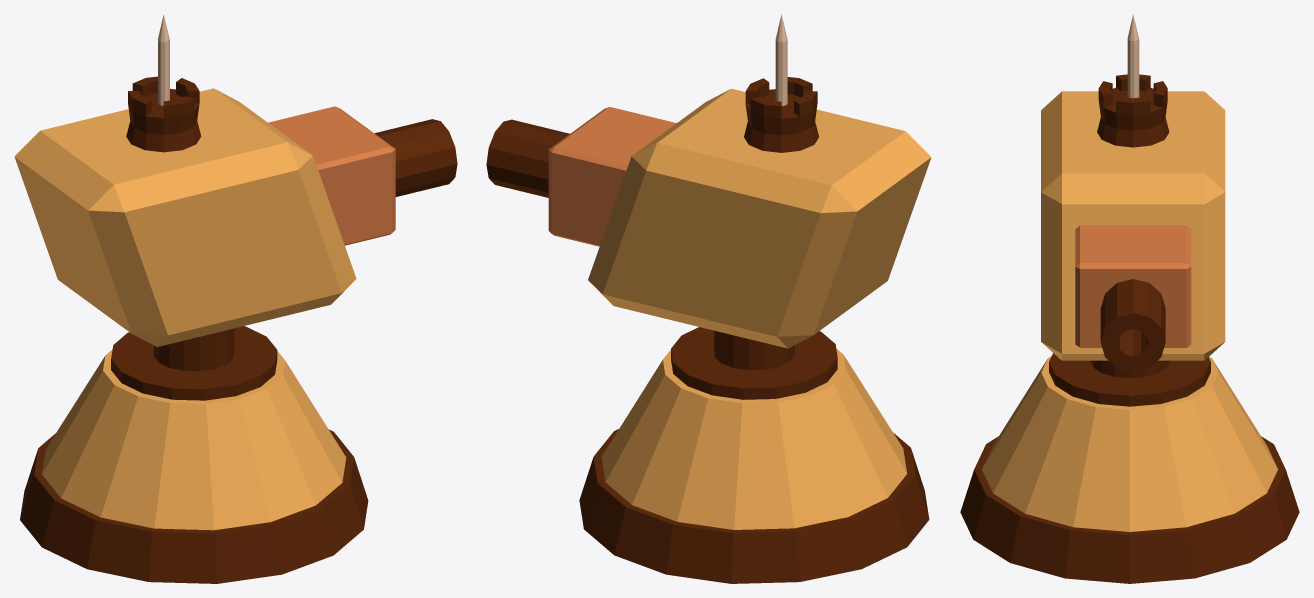
File: KurdanAtarSv1Model.fbx
3 views of the same model, side by side, from view 1: azimuth 30°, elevation 25°; view 2: azimuth 150°, elevation 25°; view 3: azimuth 270°, elevation 25° (orthographic). The views are drawn at different scales.
Parts seen in each view (by area): view 1: kurdanatar_ust.008, kurdanatar_alt.013; view 2: kurdanatar_ust.008, kurdanatar_alt.013; view 3: kurdanatar_alt.013, kurdanatar_ust.008.
Part boxes in pixels (x1,y1,x2,y2): kurdanatar_ust.008: (14, 14, 457, 346); kurdanatar_alt.013: (20, 326, 368, 583); kurdanatar_ust.008: (486, 14, 931, 348); kurdanatar_alt.013: (579, 327, 929, 583); kurdanatar_alt.013: (960, 353, 1299, 583); kurdanatar_ust.008: (1041, 14, 1225, 371).
Bounding box in the file's own units: 263 × 315 × 200.
Materials: 2 (2 with a texture image).
